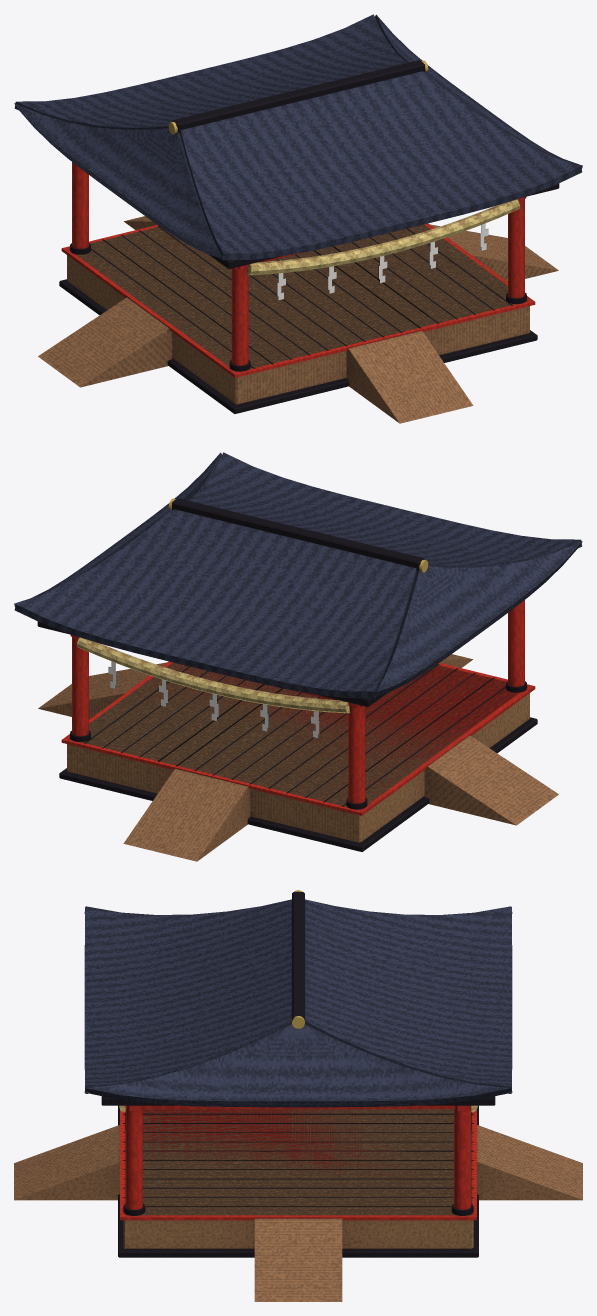
File: kagura_stage.fbx
The picture shows the model from 3 angles, top to bottom: view 1: azimuth 30°, elevation 25°; view 2: azimuth 150°, elevation 25°; view 3: azimuth 270°, elevation 25°; orthographic projection. The views are drawn at different scales.
Visible parts, largest first — view 1: kagura_stage; view 2: kagura_stage; view 3: kagura_stage.
Boxes of the visible parts, x1,y1,x2,y2 form: kagura_stage: (14,14,582,423); kagura_stage: (14,452,582,861); kagura_stage: (14,890,582,1301).
Bounding box in the file's own units: 5200 × 2300 × 5200.
1 material, 1 textured.
